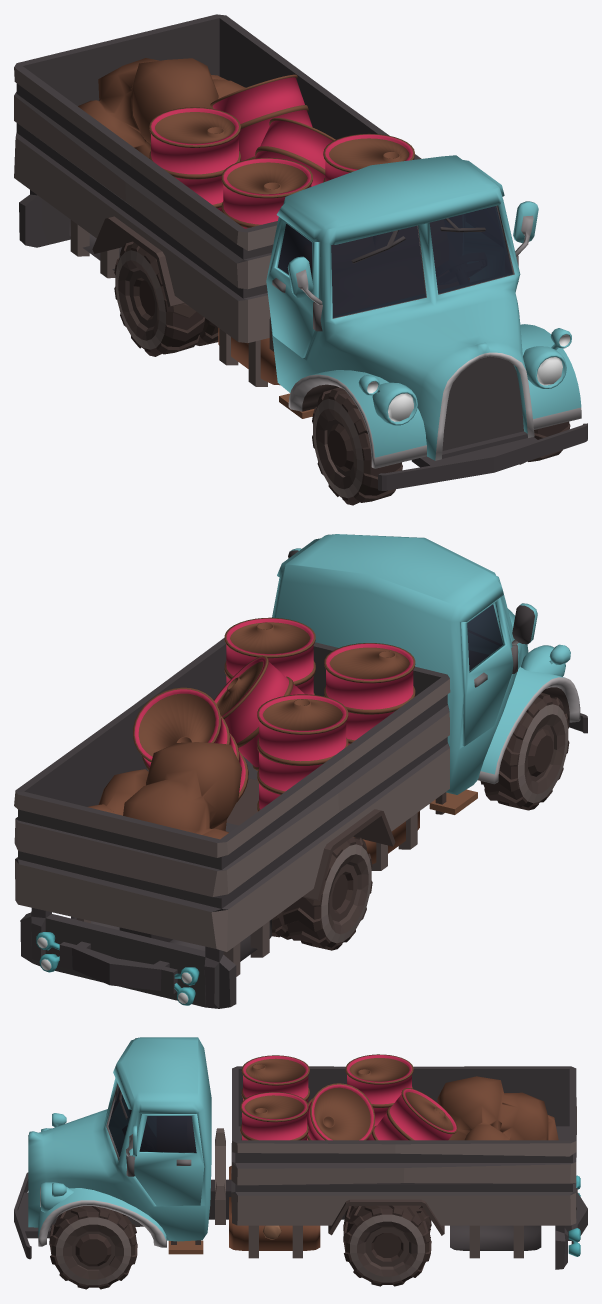
The model's file is Camion1.fbx.
3 views of the same model, one above another, from view 1: azimuth 30°, elevation 25°; view 2: azimuth 150°, elevation 25°; view 3: azimuth 270°, elevation 25° (orthographic). The views are drawn at different scales.
Visible parts, largest first — view 1: Truck_body, Truck_Trailer2, Prop1, Truck_Engine, Truck_Wheel_Back, Truck_Wheel_Front.right, Truck_Door.right, Truck_Bumper, TruckModule_OilTank, Truck_WheelCover, TruckModule_Laggage; view 2: Truck_Trailer2, Prop1, Truck_body, Truck_Bumper, Truck_Wheel_Back, Truck_Wheel_Front.right, Truck_Door.right, Truck_WheelCover, TruckModule_Laggage, TruckModule_OilTank; view 3: Truck_Trailer2, Truck_body, Prop1, Truck_Wheel_Back, Truck_Wheel_Front.left, Truck_Door.left, TruckModule_OilTank, TruckModule_Laggage, Truck_Chassy_Short, Truck_Bumper, Truck_Engine, Truck_WheelCover.
Part boxes in pixels (bbox=[...]): Truck_body: bbox=[270, 155, 581, 468]; Truck_Trailer2: bbox=[14, 14, 421, 342]; Prop1: bbox=[78, 58, 414, 228]; Truck_Engine: bbox=[378, 356, 587, 490]; Truck_Wheel_Back: bbox=[114, 241, 218, 356]; Truck_Wheel_Front.right: bbox=[312, 387, 402, 505]; Truck_Door.right: bbox=[266, 217, 318, 358]; Truck_Bumper: bbox=[19, 190, 70, 247]; TruckModule_OilTank: bbox=[218, 328, 280, 386]; Truck_WheelCover: bbox=[92, 216, 184, 307]; TruckModule_Laggage: bbox=[69, 219, 121, 278]; Truck_Trailer2: bbox=[14, 637, 450, 951]; Prop1: bbox=[88, 617, 415, 839]; Truck_body: bbox=[273, 534, 580, 814]; Truck_Bumper: bbox=[20, 908, 236, 1008]; Truck_Wheel_Back: bbox=[272, 836, 372, 950]; Truck_Wheel_Front.right: bbox=[480, 692, 569, 810]; Truck_Door.right: bbox=[461, 597, 513, 746]; Truck_WheelCover: bbox=[226, 778, 395, 901]; TruckModule_Laggage: bbox=[71, 916, 271, 976]; TruckModule_OilTank: bbox=[354, 811, 419, 870]; Truck_Trailer2: bbox=[231, 1066, 576, 1225]; Truck_body: bbox=[28, 1037, 211, 1254]; Prop1: bbox=[240, 1054, 558, 1140]; Truck_Wheel_Back: bbox=[343, 1205, 431, 1286]; Truck_Wheel_Front.left: bbox=[49, 1206, 137, 1289]; Truck_Door.left: bbox=[132, 1114, 204, 1206]; TruckModule_OilTank: bbox=[229, 1166, 320, 1258]; TruckModule_Laggage: bbox=[450, 1225, 541, 1258]; Truck_Chassy_Short: bbox=[209, 1128, 345, 1224]; Truck_Bumper: bbox=[555, 1175, 587, 1269]; Truck_Engine: bbox=[14, 1172, 143, 1259]; Truck_WheelCover: bbox=[328, 1199, 444, 1235].
Size of the model in its own units: 506 by 511 by 1364.
4 materials, 2 textured.
